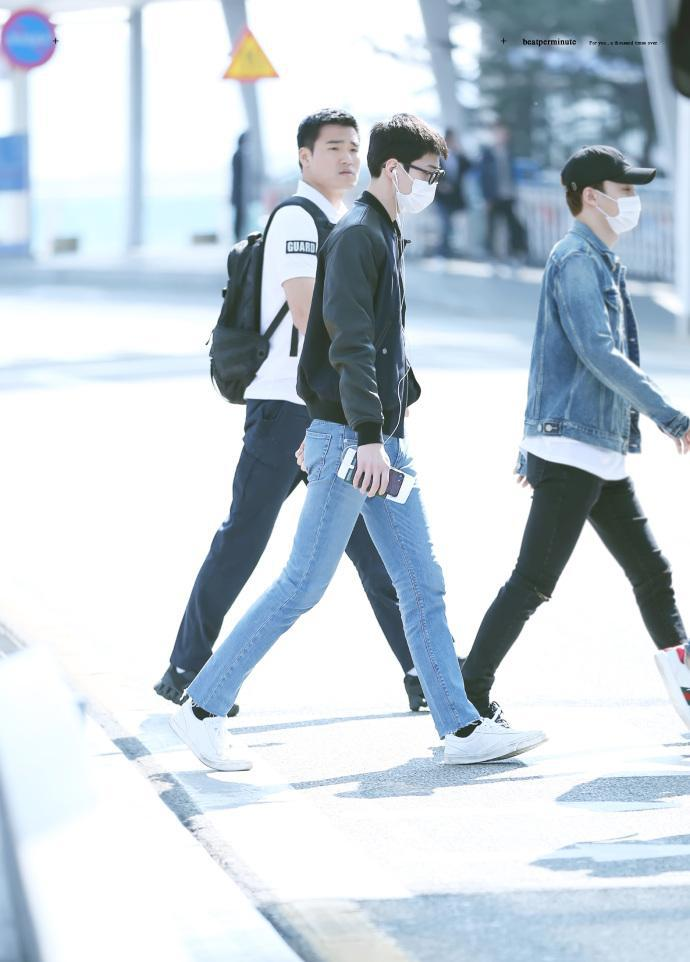NONE: (311, 134, 369, 196)
OK: (587, 176, 646, 235), (379, 156, 437, 216)
